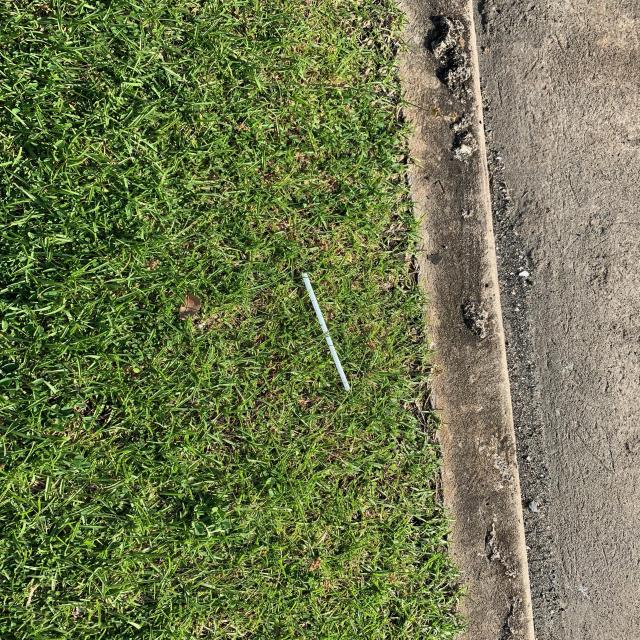litter: (302, 272, 351, 390)
